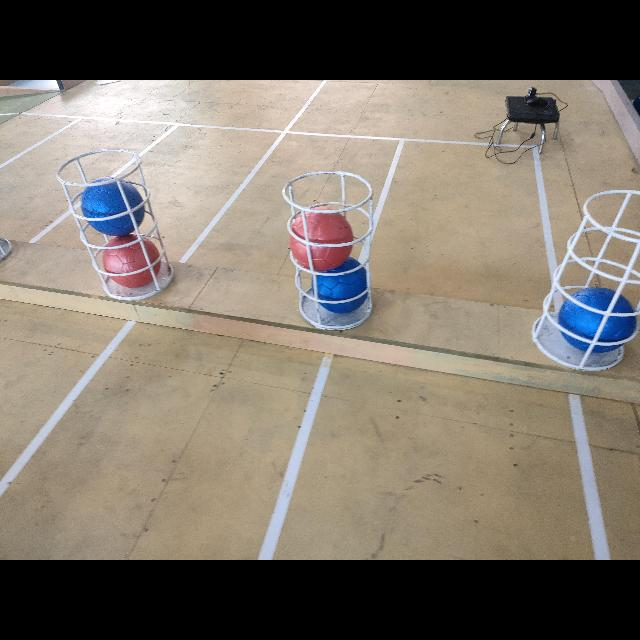B: (557, 288, 635, 352), (82, 178, 144, 236), (315, 256, 371, 312)
R: (288, 208, 352, 270), (101, 234, 161, 286)
